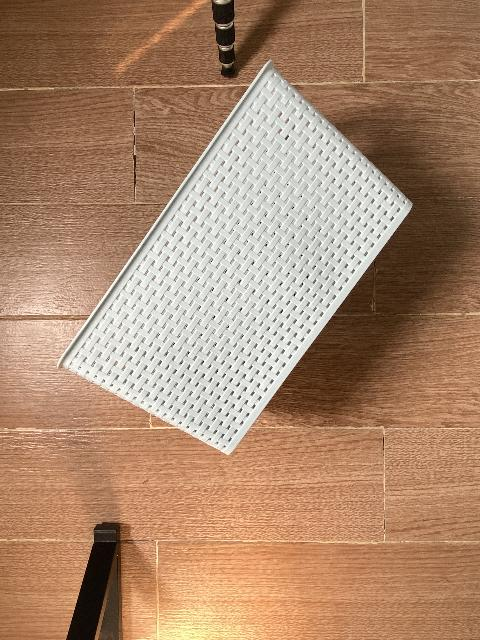cart: (57, 61, 412, 455)
